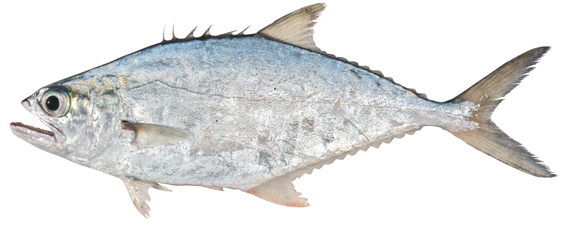fish: (9, 2, 558, 219)
